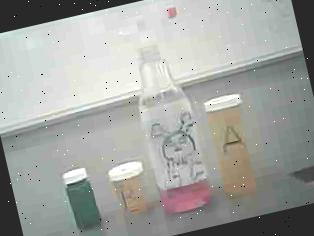Bottle A: (202, 88, 272, 200)
Bottle B: (105, 158, 154, 220)
Bottle C: (59, 163, 108, 236)
hazard: (112, 0, 224, 218)
